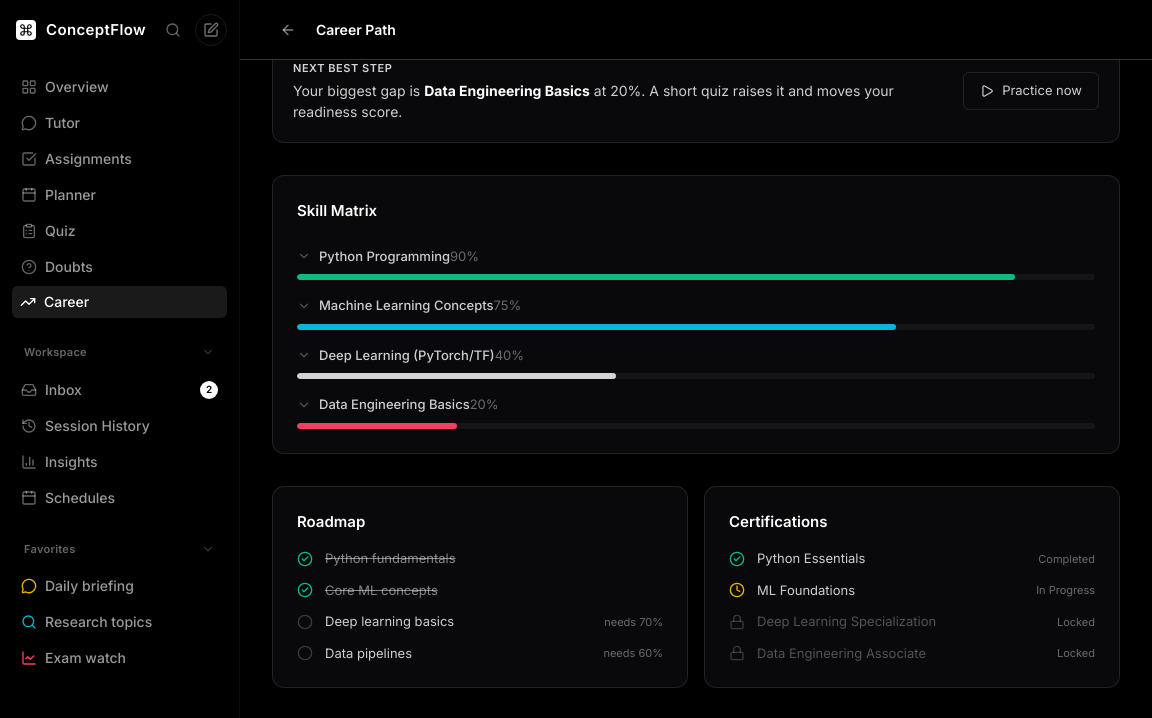
Scenario: Career › derived stats are consistent; skills expand; practice launches a quiz; jobs drawer works
(page scrolled)
Step 1. Click the button "Data Engineering Basics 20%" → click(394, 404), box [297,395,1095,429]
(page scrolled)
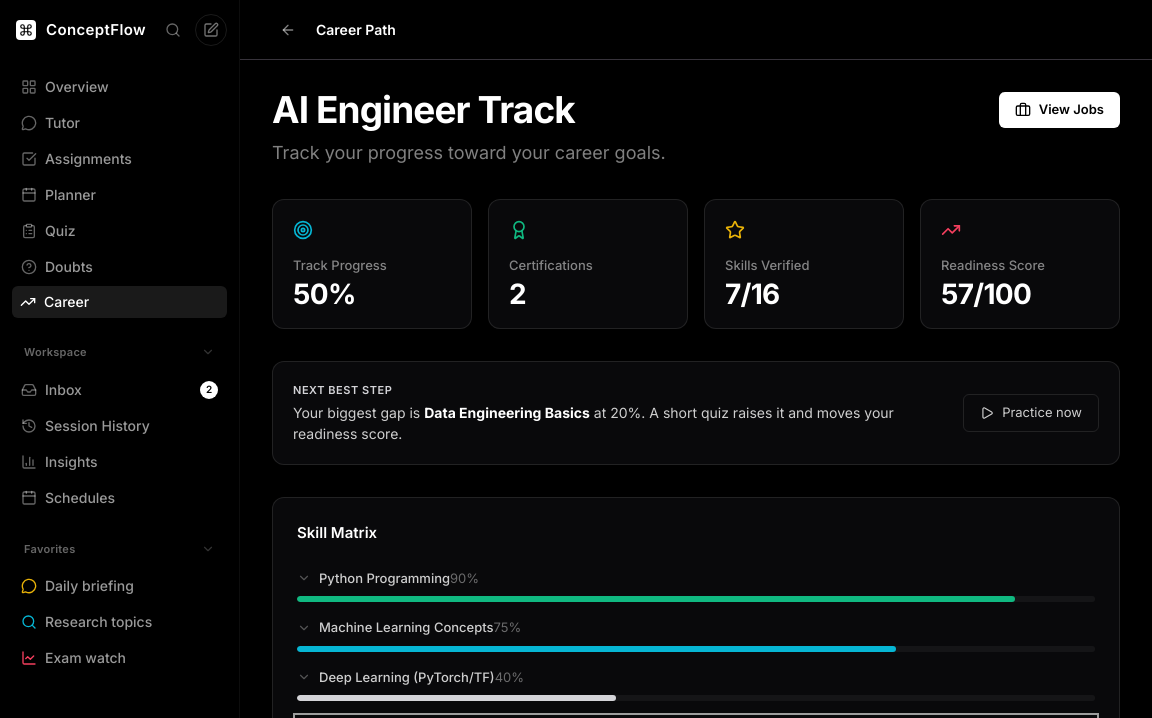
Step 2. Click the button "View Jobs" → click(1059, 110), box [999,92,1120,128]
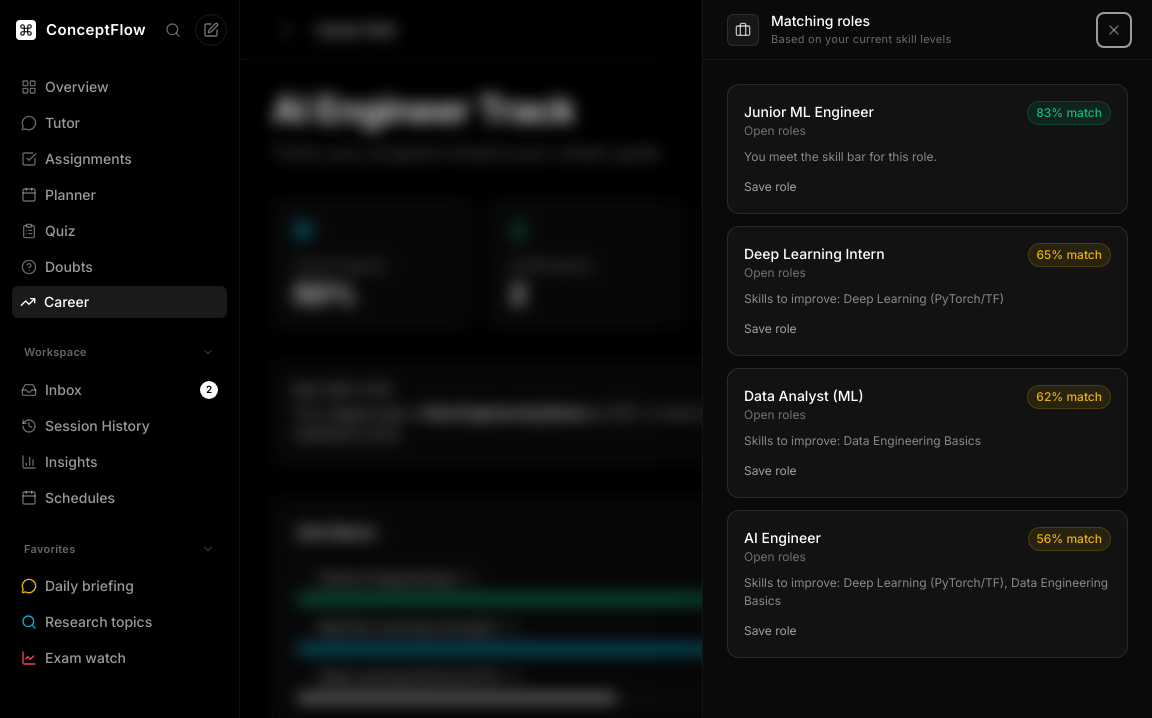
Expected: the text "83% match" is shown 4 times, [1027,101,1111,125]; [1028,243,1111,267]; [1027,385,1111,409]; [1028,527,1111,551]
Step 3. Click the button "Save role" below "Junior ML Engineer" → click(770, 187), box [744,178,797,196]
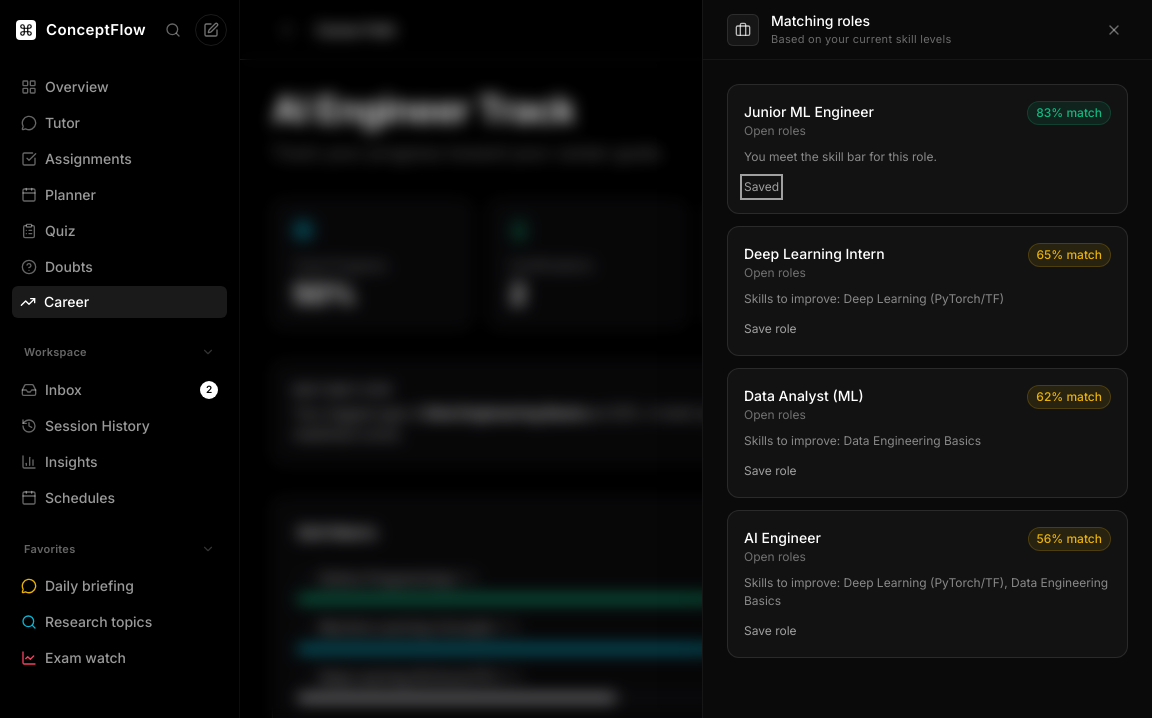
Expected: the button "Saved" is pressed, [744,178,779,196]
Step 4. Press Escape
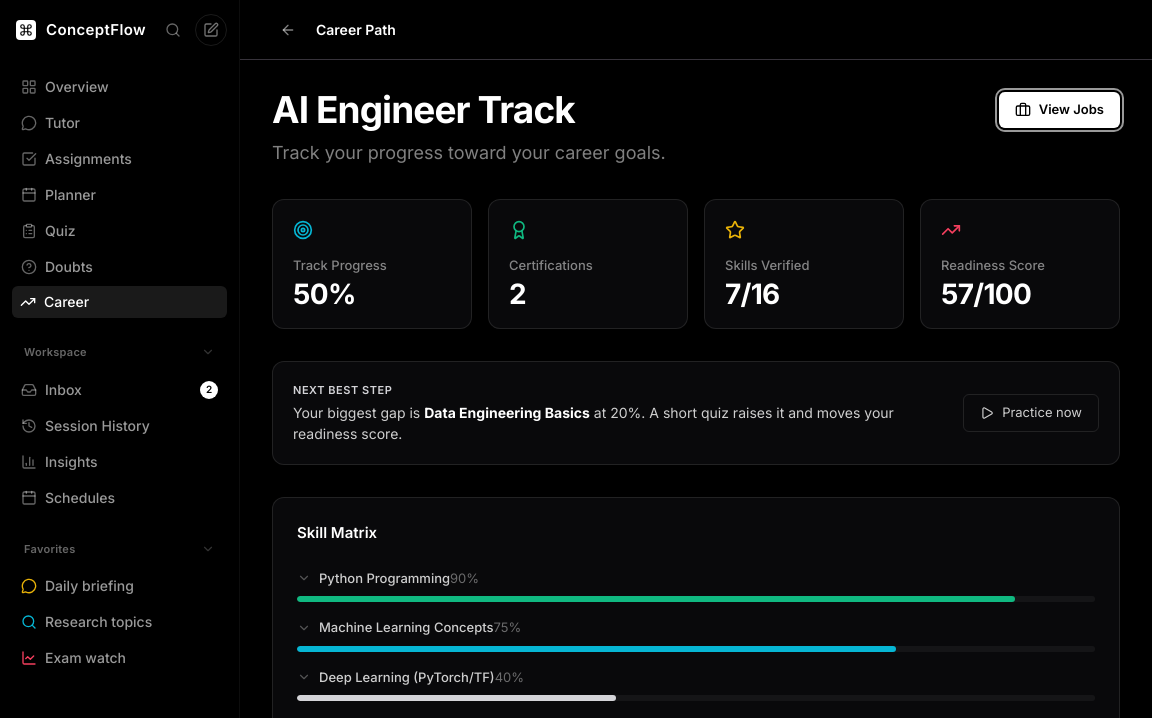
Step 5. Click the button "Practice now" → click(1031, 413), box [963,394,1099,432]
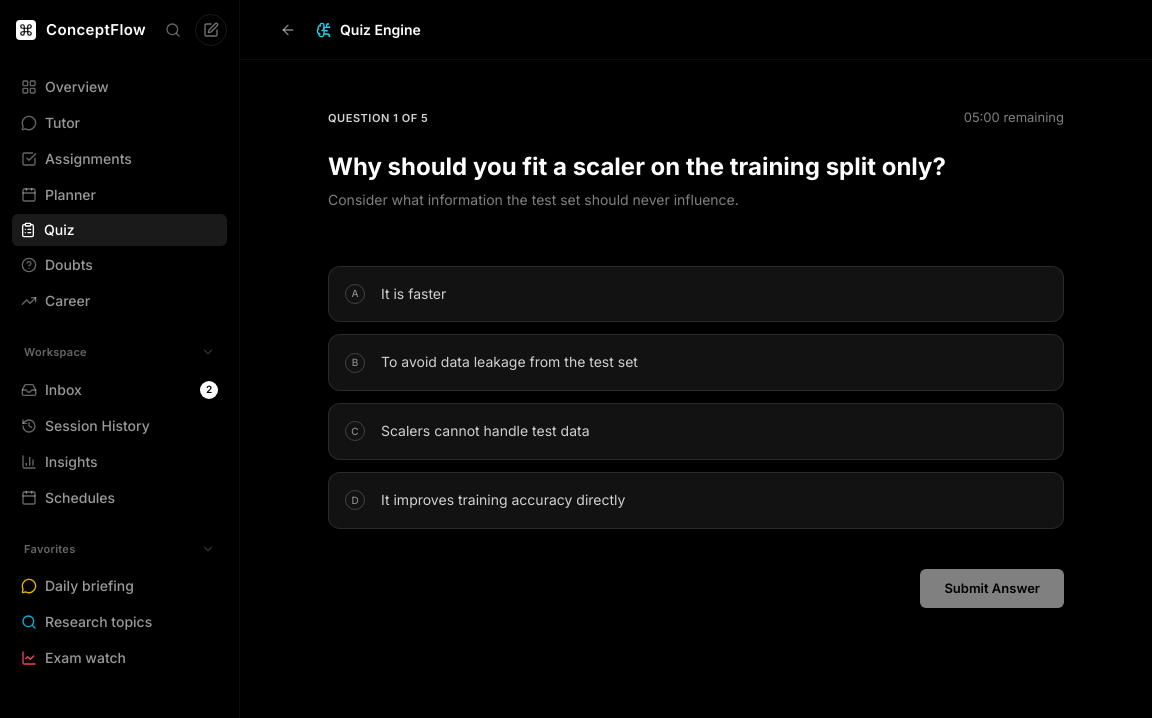
Expected: the text "Question 1 of 5" is shown, [328,110,428,126]
